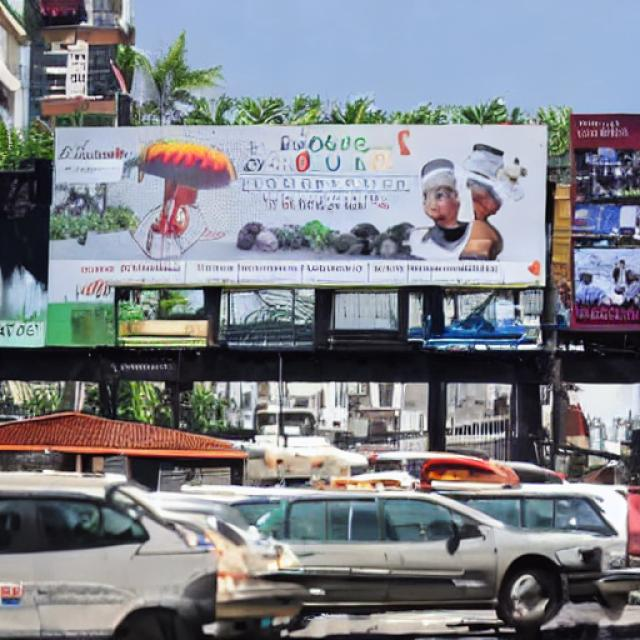Billboard: (47, 119, 550, 357), (566, 111, 640, 335)
